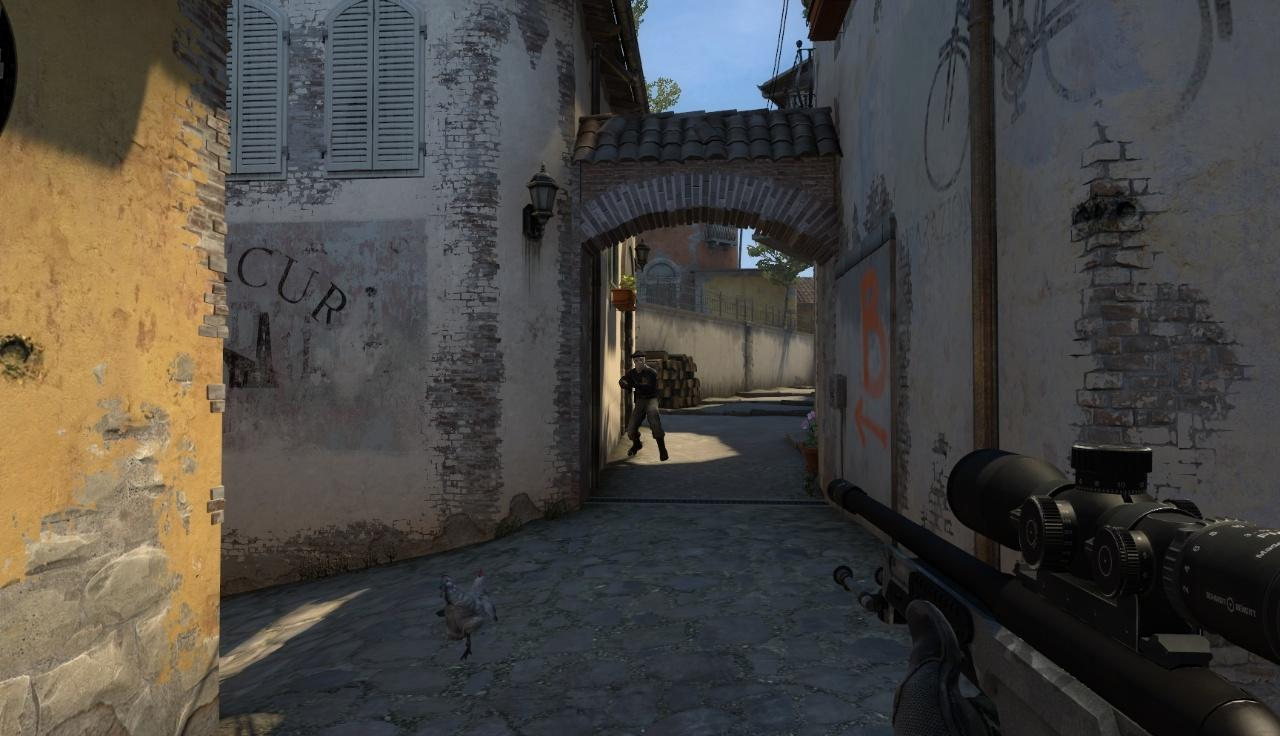sniper: (828, 448, 1280, 732)
tt: (616, 349, 669, 460)
tthead: (631, 350, 647, 370)
